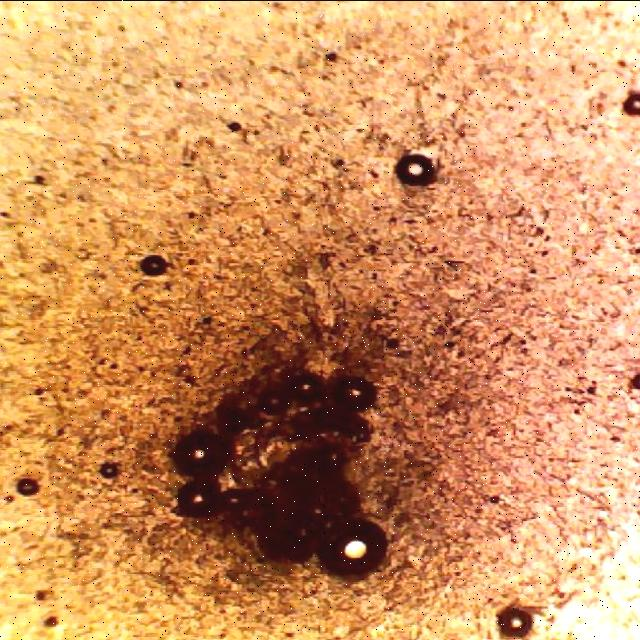microbeads: (390, 148, 444, 192)
